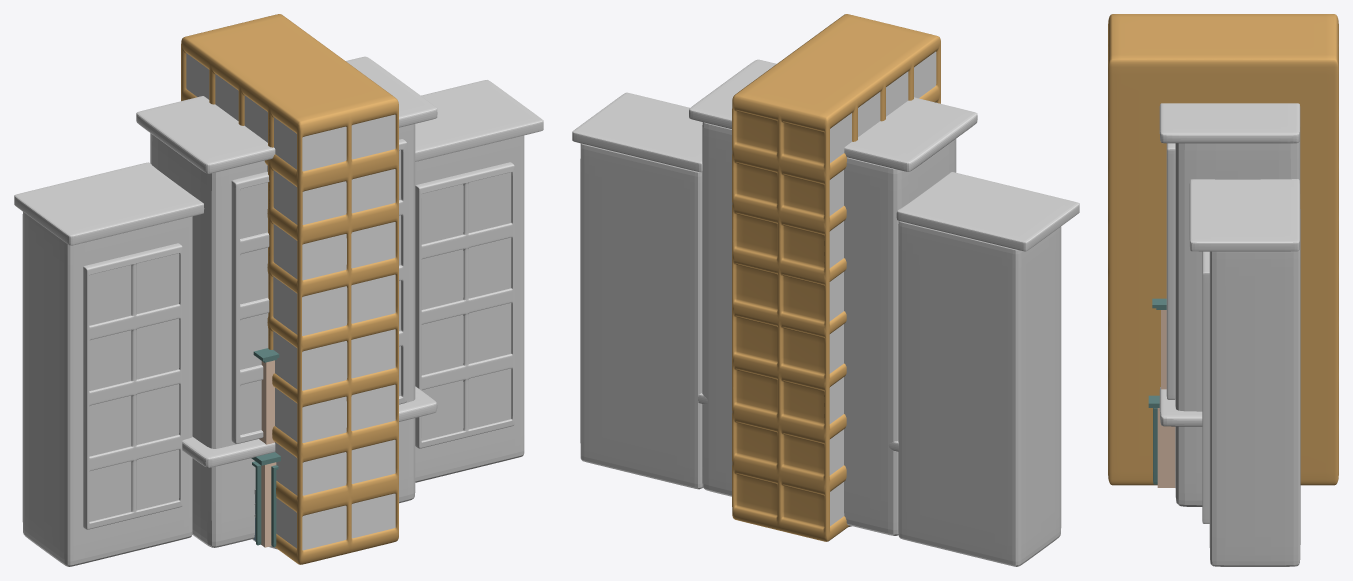
The model's file is morden_2.fbx.
3 views of the same model, side by side, from view 1: azimuth 30°, elevation 25°; view 2: azimuth 150°, elevation 25°; view 3: azimuth 270°, elevation 25° (orthographic). The views are drawn at different scales.
Parts seen in each view (by area): view 1: 立方体.017, 立方体.022, 平面.017, 立方体.018, 立方体.020, 立方体.023, 立方体.019, 立方体.024, 平面.018, 立方体, 立方体.021; view 2: 立方体.022, 立方体.017, 立方体.018, 立方体.023, 立方体.019; view 3: 立方体.017, 立方体.022, 立方体.018, 立方体.023, 立方体.019, 立方体.024, 立方体.020, 立方体, 立方体.021, 立方体.006.
Part boxes in pixels (x1,y1,x2,y2): 立方体.017: (181,14,398,564); 立方体.022: (22,135,524,566); 平面.017: (89,172,511,521); 立方体.018: (150,124,415,547); 立方体.020: (83,162,514,529); 立方体.023: (14,80,543,245); 立方体.019: (136,56,437,173); 立方体.024: (231,139,406,443); 平面.018: (240,150,400,434); 立方体: (251,348,280,547); 立方体.021: (182,386,437,467); 立方体.022: (580,143,1061,566); 立方体.017: (732,14,940,541); 立方体.018: (702,122,956,535); 立方体.023: (572,92,1079,251); 立方体.019: (689,59,977,171); 立方体.017: (1108,14,1338,485); 立方体.022: (1209,194,1300,566); 立方体.018: (1175,132,1300,506); 立方体.023: (1189,179,1299,251); 立方体.019: (1159,103,1300,143); 立方体.024: (1166,143,1175,399); 立方体.020: (1202,251,1209,523); 立方体: (1148,298,1175,487); 立方体.021: (1159,387,1202,426); 立方体.006: (1153,408,1157,484).
Bounding box in the file's own units: 1634 × 1542 × 714.
